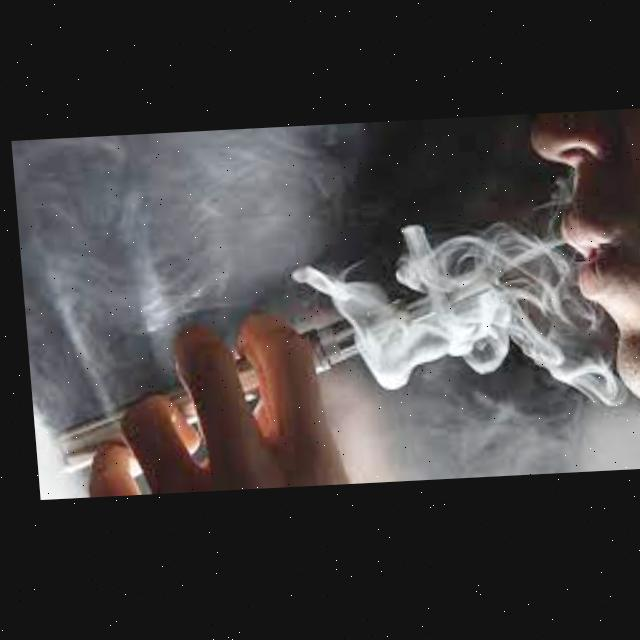vape: (37, 278, 504, 474)
